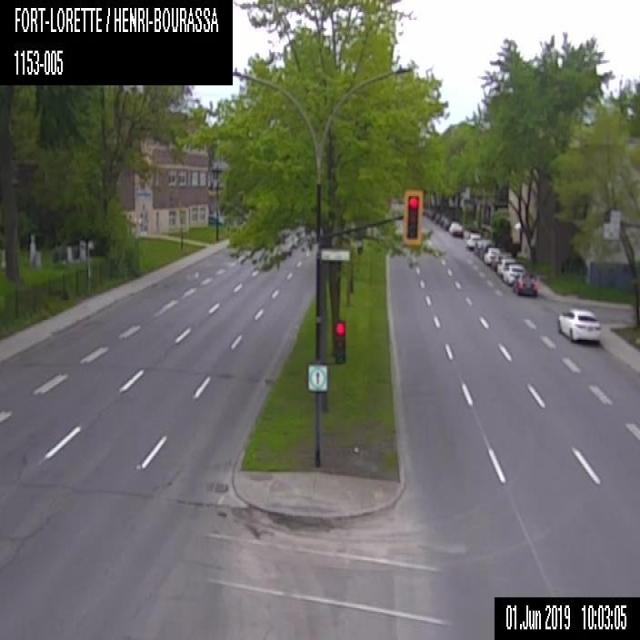vehicle: (556, 306, 600, 346), (514, 272, 538, 298), (502, 264, 525, 284), (496, 258, 520, 273), (490, 252, 512, 268), (483, 246, 500, 265), (479, 241, 494, 258), (465, 232, 480, 249), (474, 238, 487, 254), (208, 213, 223, 226), (449, 222, 463, 235)
